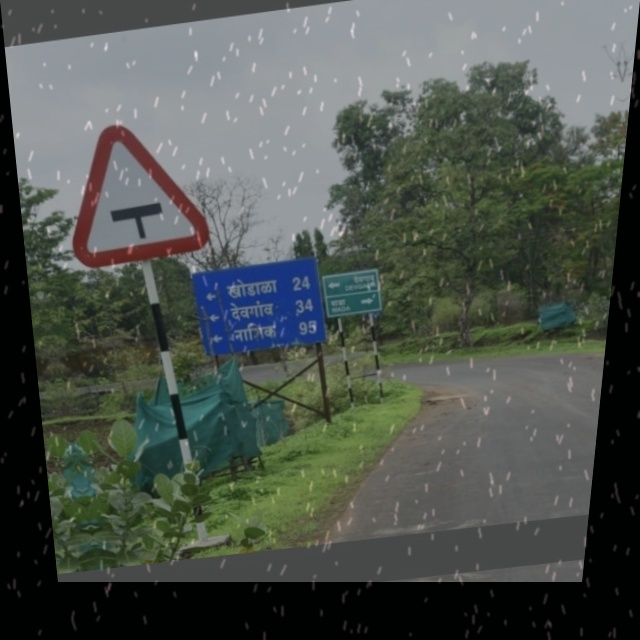T_Intersection: (48, 105, 220, 275)
